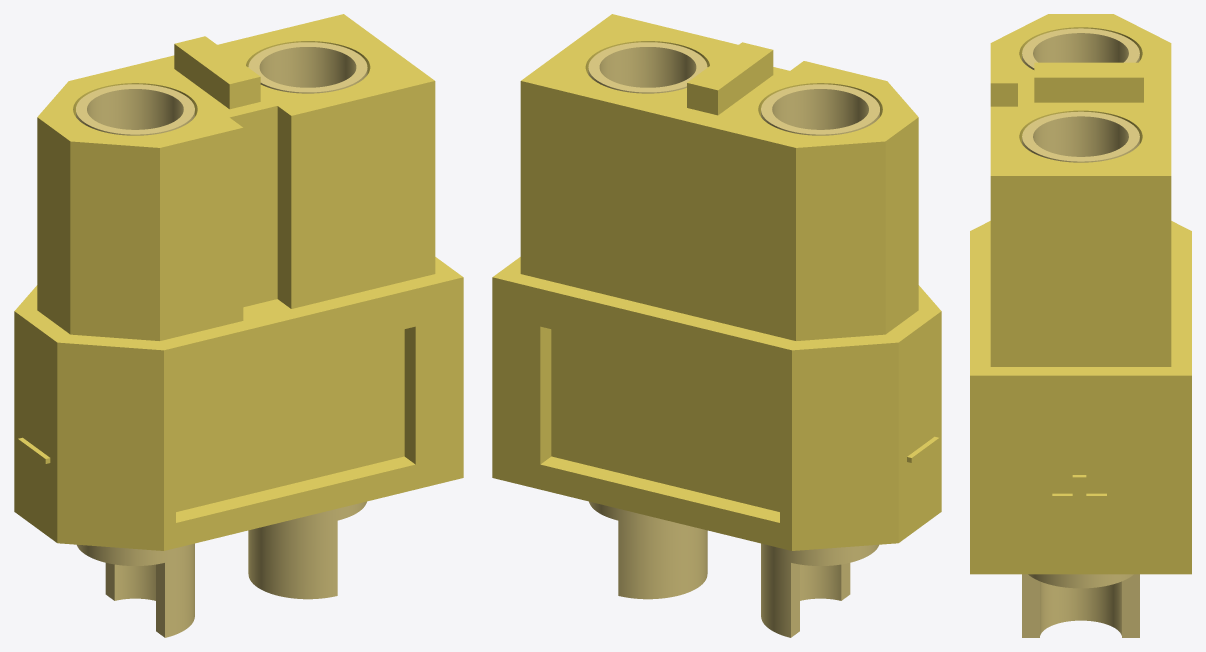
3 views of the same model, side by side, from view 1: azimuth 30°, elevation 25°; view 2: azimuth 150°, elevation 25°; view 3: azimuth 270°, elevation 25° (orthographic).
Parts seen in each view (by area): view 1: XT60 female v5, XT60 female v001, XT60 female v002; view 2: XT60 female v5, XT60 female v001, XT60 female v002; view 3: XT60 female v5, XT60 female v001, XT60 female v002.
Boxes of the visible parts, box(x1,y1,x2,y2) form: XT60 female v5: box(14, 14, 463, 550); XT60 female v001: box(248, 42, 367, 599); XT60 female v002: box(76, 84, 194, 637); XT60 female v5: box(492, 14, 941, 550); XT60 female v001: box(588, 42, 707, 599); XT60 female v002: box(761, 84, 879, 637); XT60 female v5: box(970, 14, 1191, 574); XT60 female v001: box(1022, 111, 1139, 637); XT60 female v002: box(1022, 28, 1139, 69).
Size of the model in its own units: 0.0159 by 0.0212 by 0.0081.
